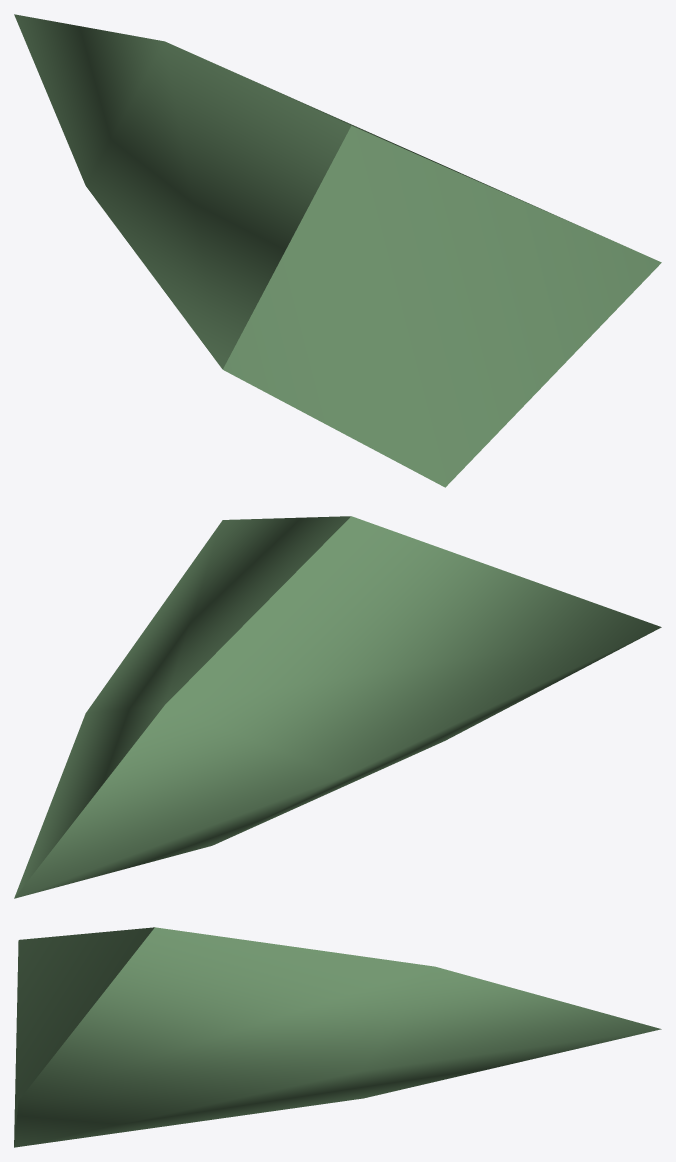
The model's file is Tail.fbx.
3 renders of one model, top to bottom at view 1: azimuth 30°, elevation 25°; view 2: azimuth 150°, elevation 25°; view 3: azimuth 270°, elevation 25°, orthographic. The views are drawn at different scales.
Parts seen in each view (by area): view 1: Tail; view 2: Tail; view 3: Tail.
Boxes of the visible parts, x1=… form: Tail: x1=14, y1=14, x2=661, y2=487; Tail: x1=14, y1=516, x2=661, y2=898; Tail: x1=14, y1=927, x2=661, y2=1147.
Bounding box in the file's own units: 0.2465 × 0.1573 × 0.4193.
